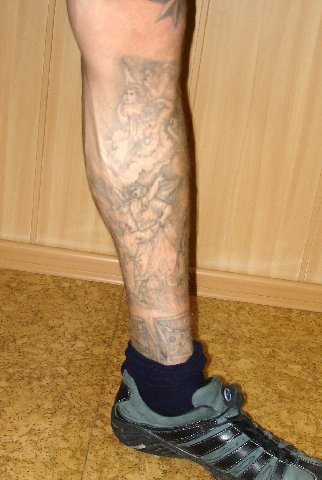tatu1_angel: (96, 54, 196, 265)
